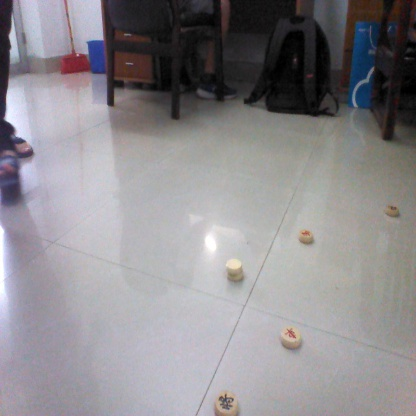chess: (210, 390, 241, 413), (221, 257, 246, 280), (279, 327, 303, 345), (382, 202, 403, 218), (298, 227, 315, 243)
